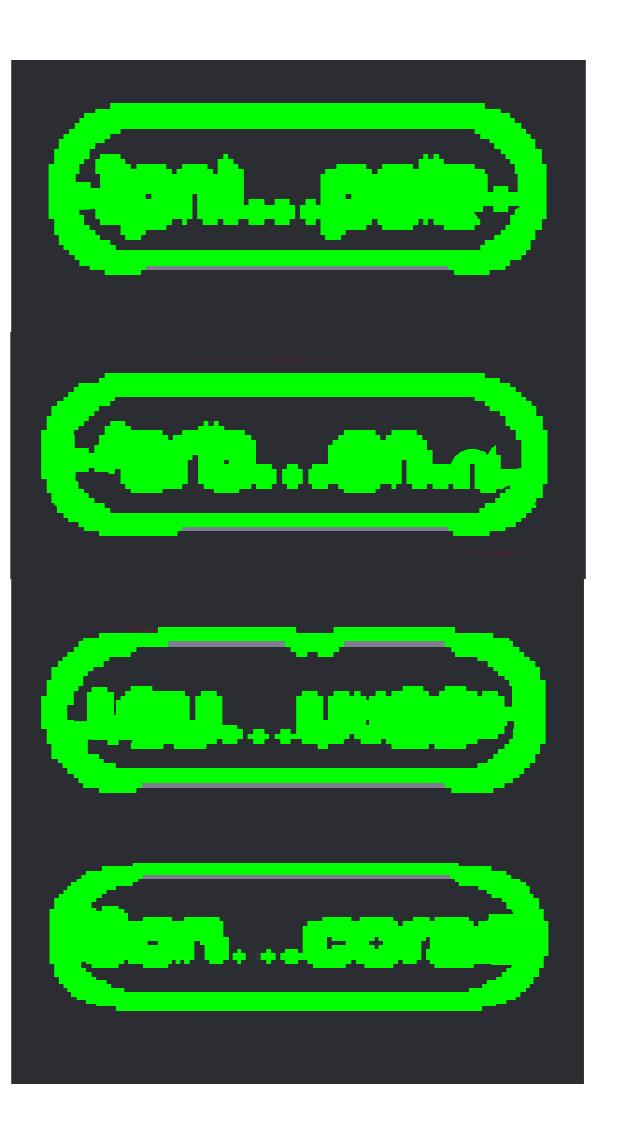WS1: (449, 81, 558, 286), (465, 351, 564, 553), (26, 94, 122, 277), (465, 612, 554, 800), (29, 361, 116, 548), (32, 854, 124, 1028), (29, 594, 103, 798), (477, 851, 556, 1015)
